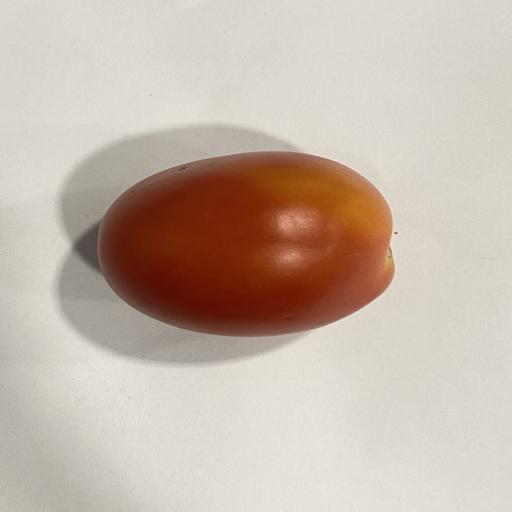ripe: (97, 151, 394, 337)
